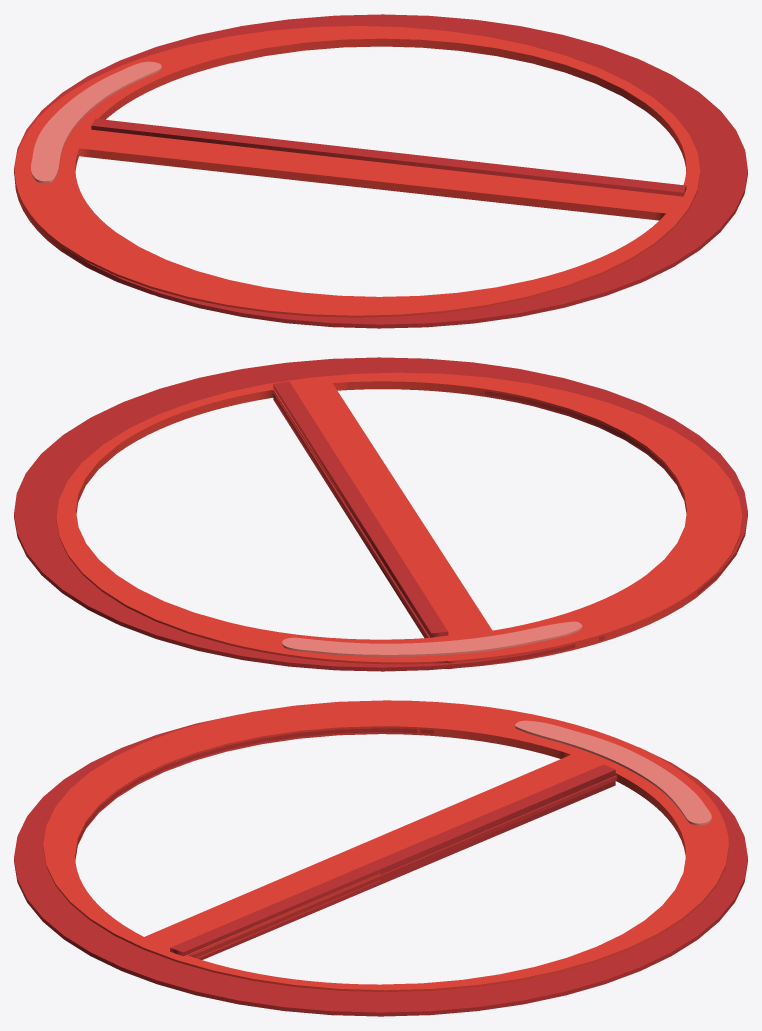
File: emoji_u1f6ab.glb
3 renders of one model, top to bottom at view 1: azimuth 30°, elevation 25°; view 2: azimuth 150°, elevation 25°; view 3: azimuth 270°, elevation 25°, orthographic.
Visible parts, largest first — view 1: emoji_u1f6ab; view 2: emoji_u1f6ab; view 3: emoji_u1f6ab.
Part boxes in pixels (x1,y1,x2,y2): emoji_u1f6ab: (14,14,747,328); emoji_u1f6ab: (14,357,747,671); emoji_u1f6ab: (14,700,747,1016).
Bounding box in the file's own units: 0.0339 × 0.0008 × 0.0339.
